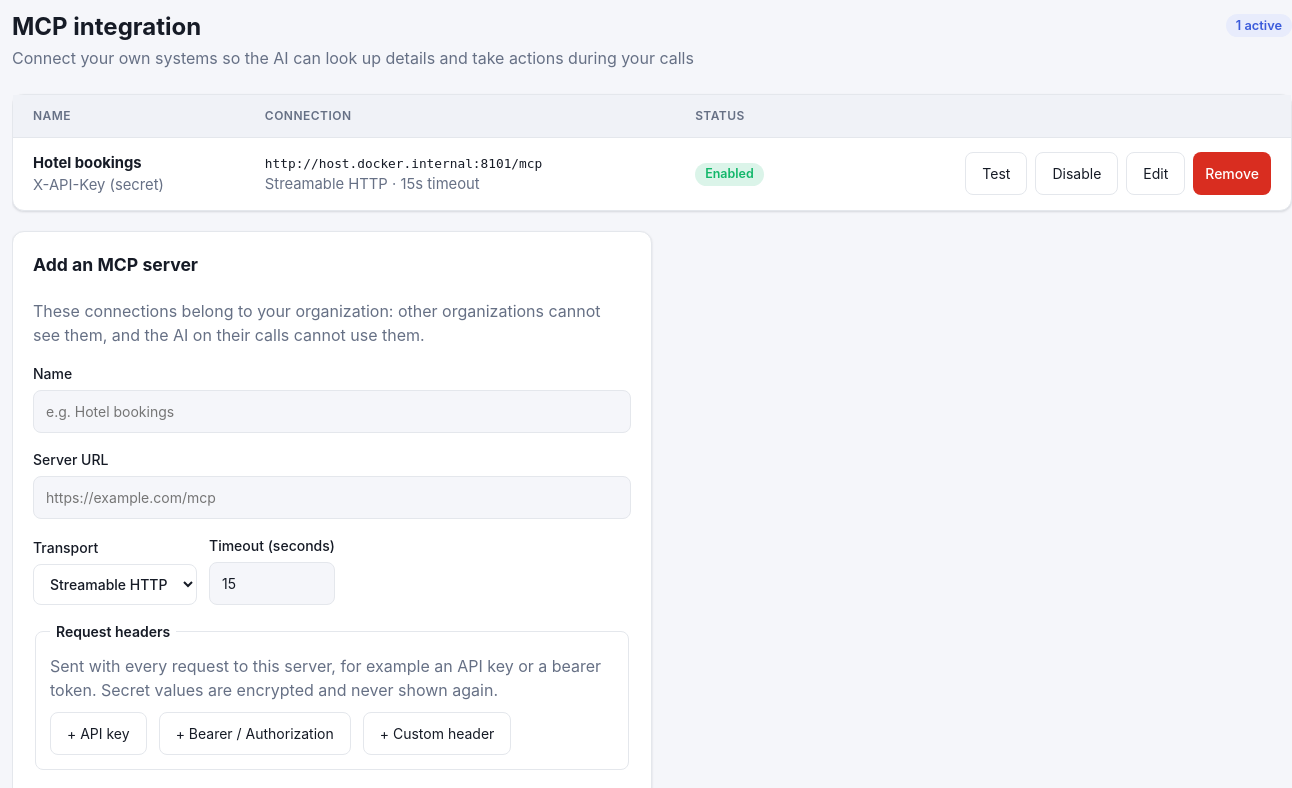
Test: McpPage › shows the tools the AI will get when testing a connection
Click the button "Test" at (996, 174), box x1=965 y1=152 x2=1027 y2=195
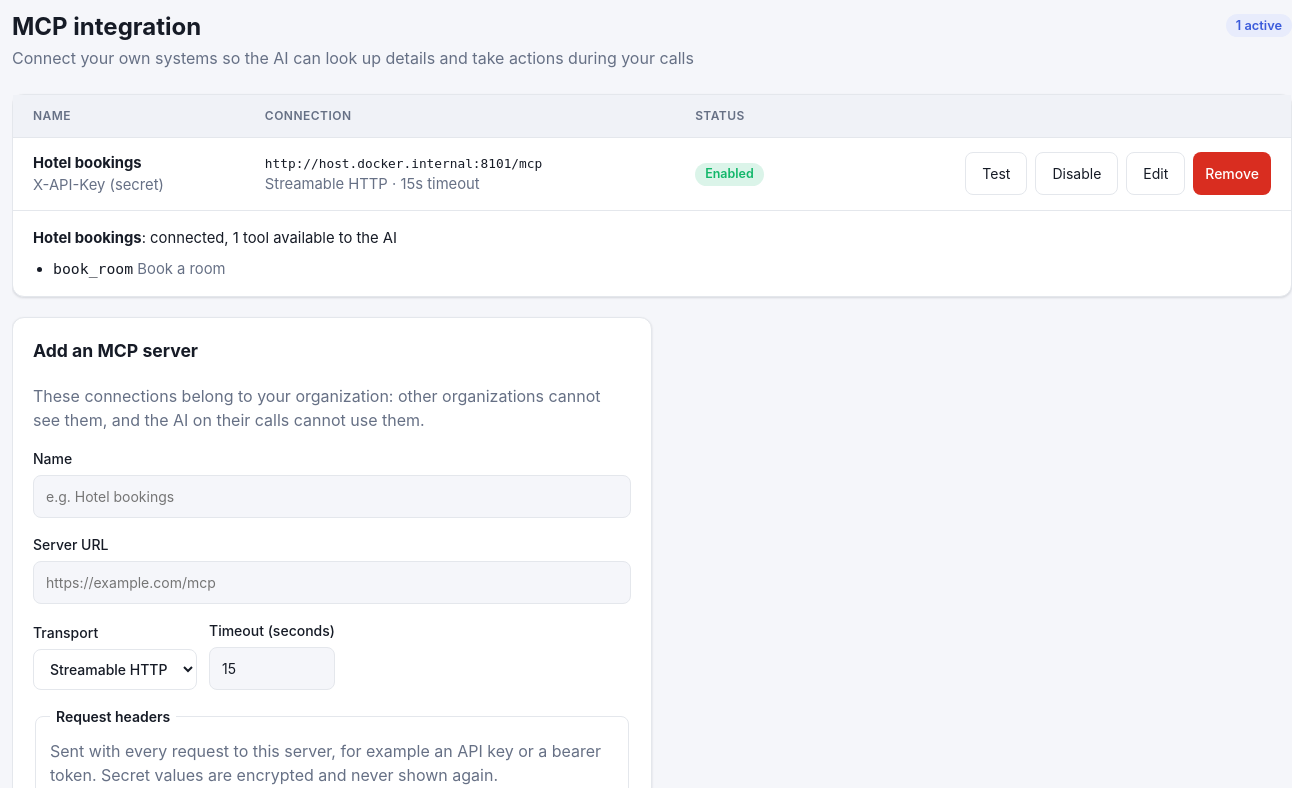
Result: the text "book_room" is shown at x1=53 y1=260 x2=133 y2=277
Result: the text "Hotel bookings: connected, 1 tool available to the AI book_room Book a room" is shown at x1=13 y1=210 x2=1291 y2=296
